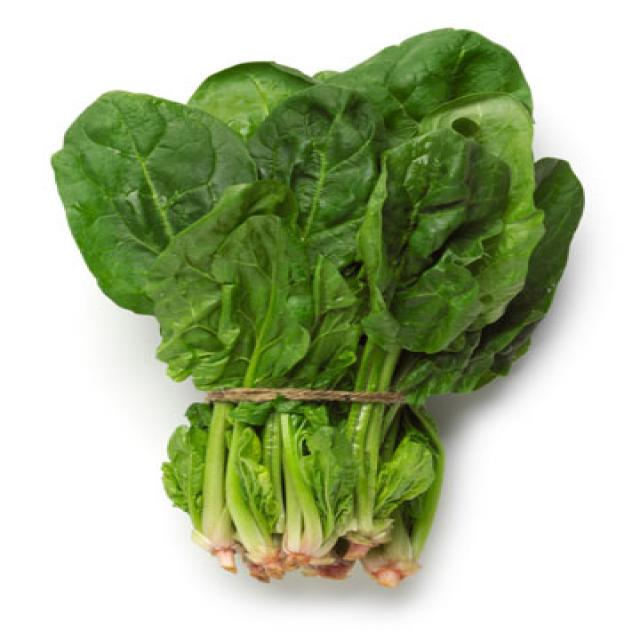spinach: (367, 134, 507, 346), (52, 90, 248, 210), (210, 220, 312, 388), (263, 88, 372, 223)
